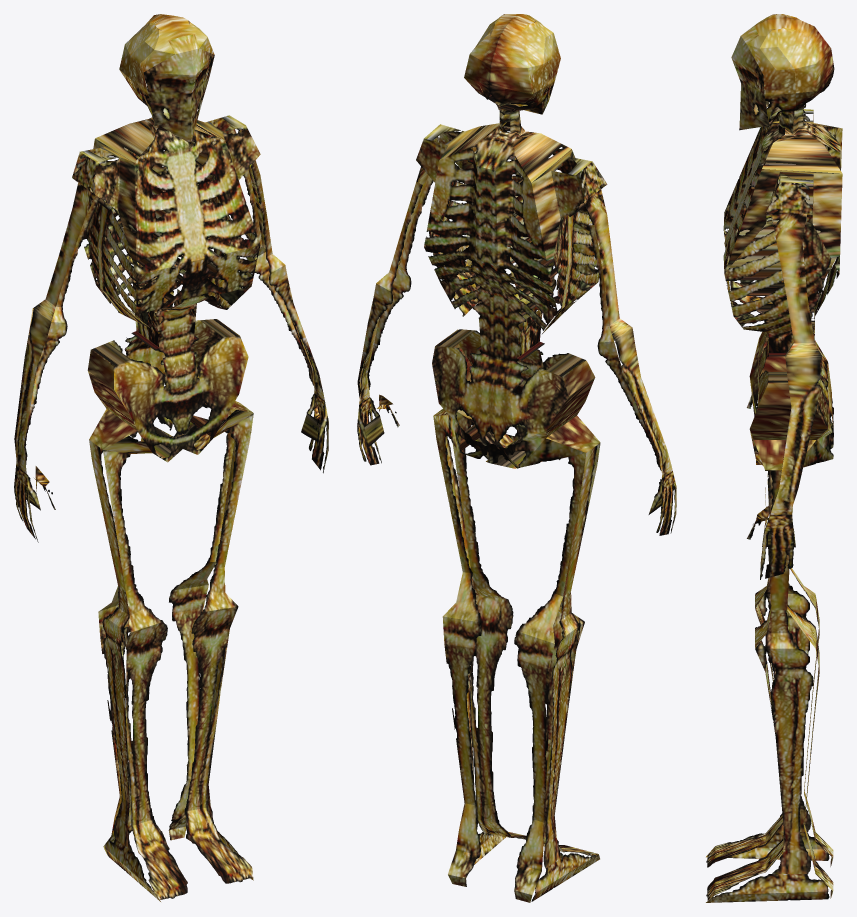
File: SkeletonDirtier.fbx
3 views of the same model, side by side, from view 1: azimuth 30°, elevation 25°; view 2: azimuth 150°, elevation 25°; view 3: azimuth 270°, elevation 25° (orthographic).
Parts seen in each view (by area): view 1: Cube; view 2: Cube; view 3: Cube.
Boxes of the visible parts, bbox=[...] form: Cube: bbox=[14, 14, 328, 901]; Cube: bbox=[357, 14, 676, 902]; Cube: bbox=[706, 14, 842, 902].
Bounding box in the file's own units: 72.03 × 194 × 27.96.
Materials: 1 (1 with a texture image).
